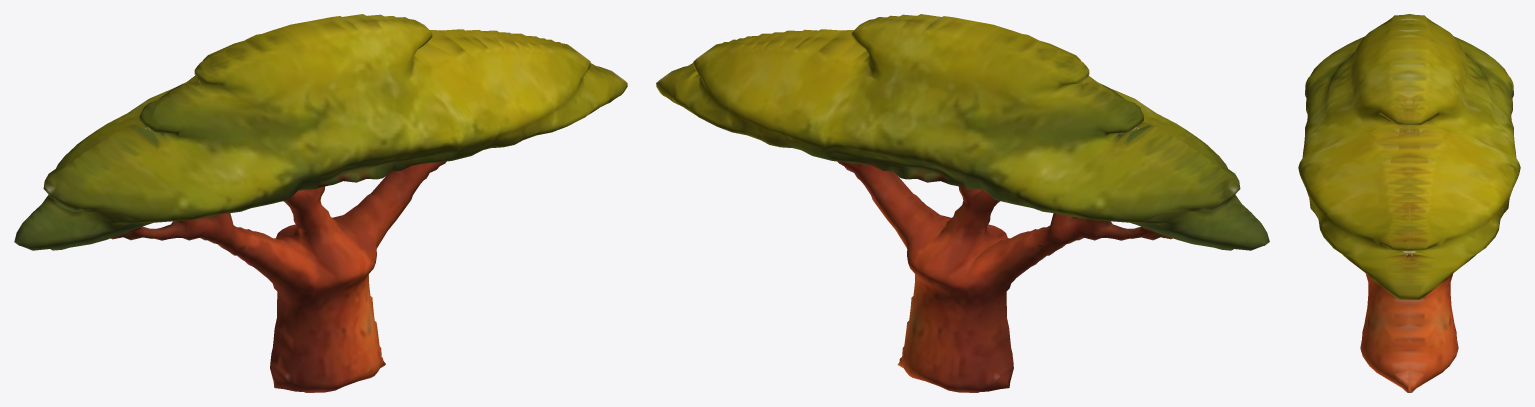
The model's file is 03_baobab_trees_r02_c01.glb.
3 renders of one model, left to right at view 1: azimuth 30°, elevation 25°; view 2: azimuth 150°, elevation 25°; view 3: azimuth 270°, elevation 25°, orthographic. The views are drawn at different scales.
Parts seen in each view (by area): view 1: 03_baobab_trees_r02_c01; view 2: 03_baobab_trees_r02_c01; view 3: 03_baobab_trees_r02_c01.
Boxes of the visible parts, <box> form: 03_baobab_trees_r02_c01: <box>14,14,627,392</box>; 03_baobab_trees_r02_c01: <box>656,14,1269,392</box>; 03_baobab_trees_r02_c01: <box>1298,14,1520,392</box>.
Size of the model in its own units: 2.96 by 1.65 by 1.06.
Materials: 1 (1 with a texture image).
